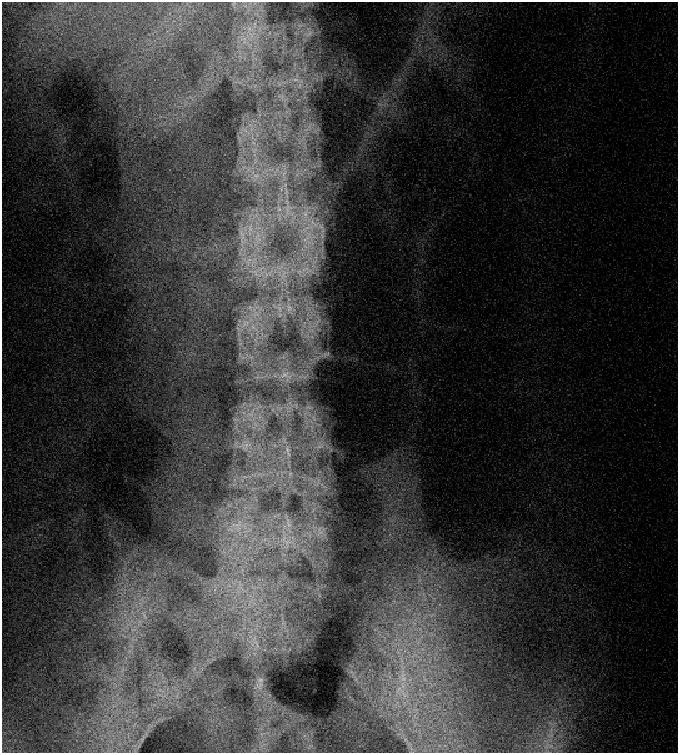lumbar scoliosis: (211, 283, 344, 594)
